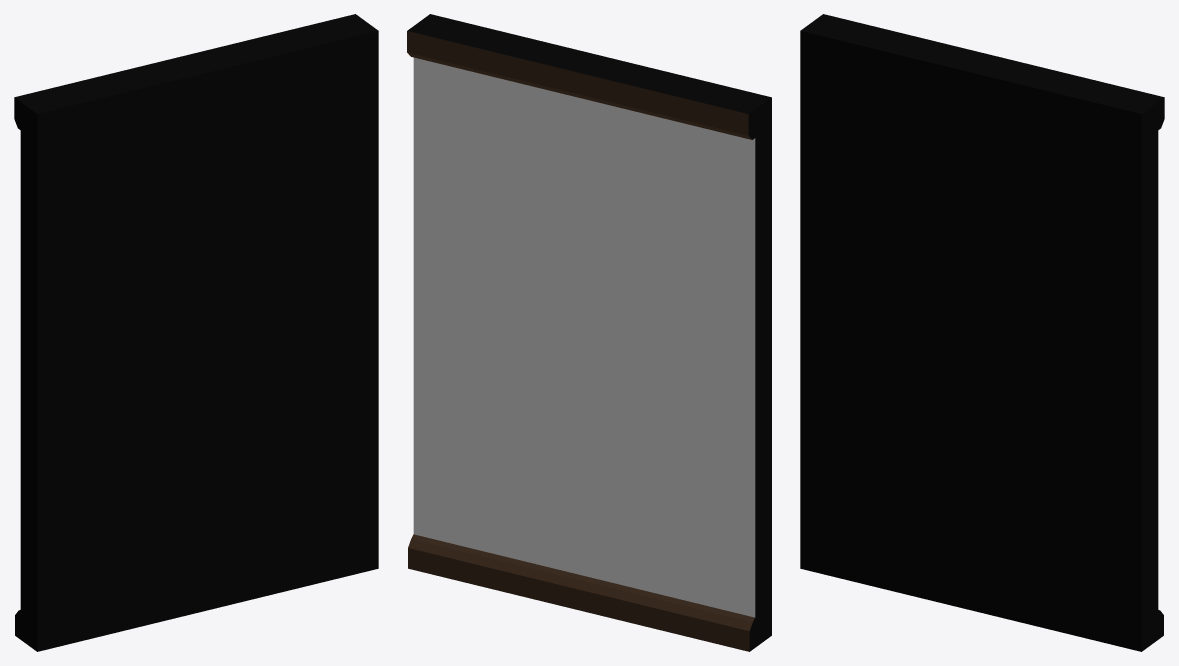
File: Wall_02.fbx
3 views of the same model, side by side, from view 1: azimuth 30°, elevation 25°; view 2: azimuth 150°, elevation 25°; view 3: azimuth 330°, elevation 25° (orthographic).
Parts seen in each view (by area): view 1: Cube.144; view 2: Cube.144; view 3: Cube.144.
Boxes of the visible parts, x1,y1,x2,y2 form: Cube.144: (14,14,378,651); Cube.144: (407,14,771,651); Cube.144: (800,14,1164,651).
Bounding box in the file's own units: 0.2334 × 2 × 3.01.
